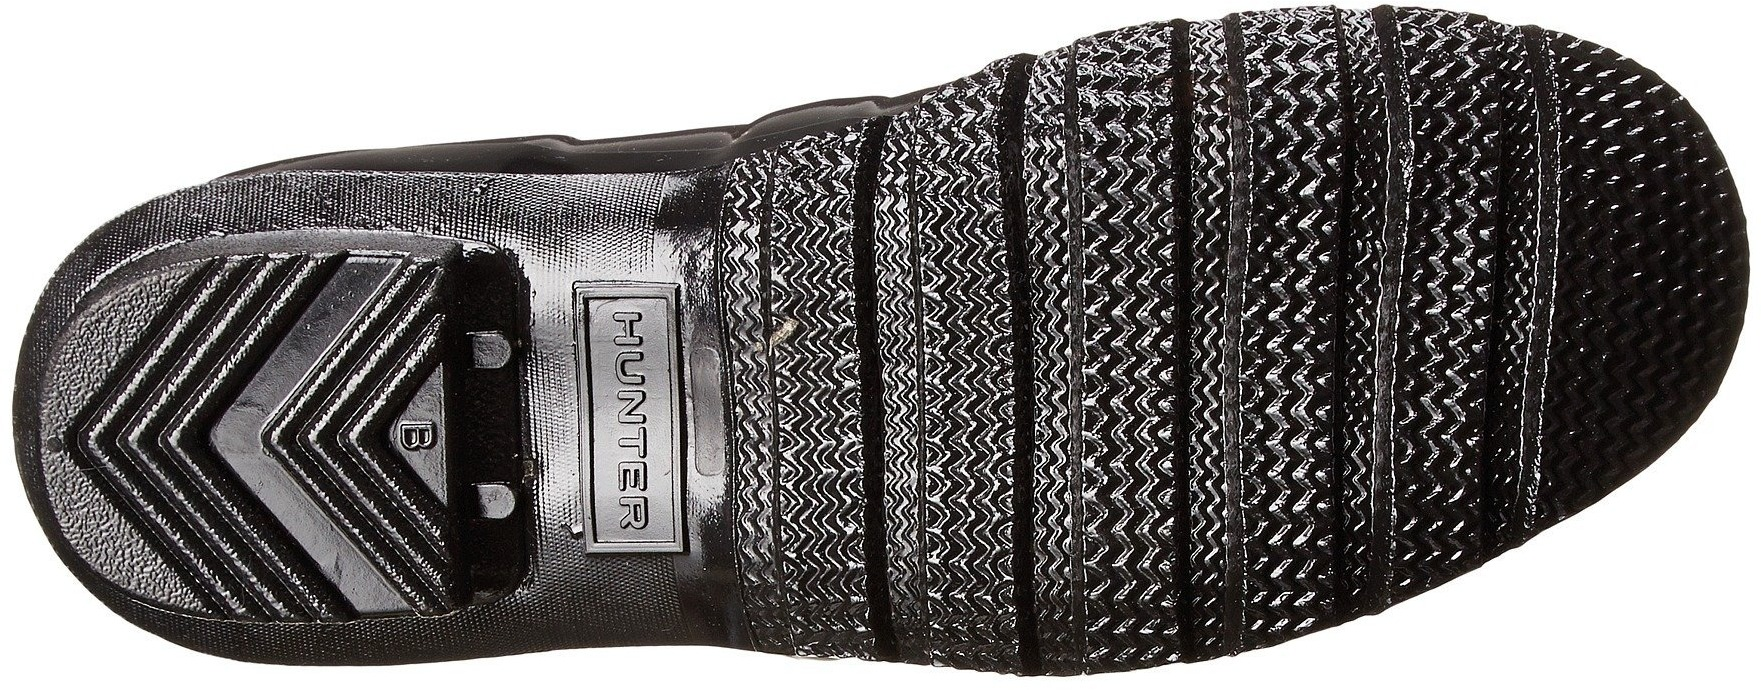chevron: (1327, 44, 1637, 354), (1016, 79, 1316, 384), (740, 161, 997, 417), (1009, 393, 1266, 641), (743, 426, 973, 641), (146, 335, 364, 555), (1293, 388, 1481, 574)
text: (591, 298, 670, 384), (600, 466, 678, 541), (595, 388, 669, 460), (389, 414, 441, 472)
